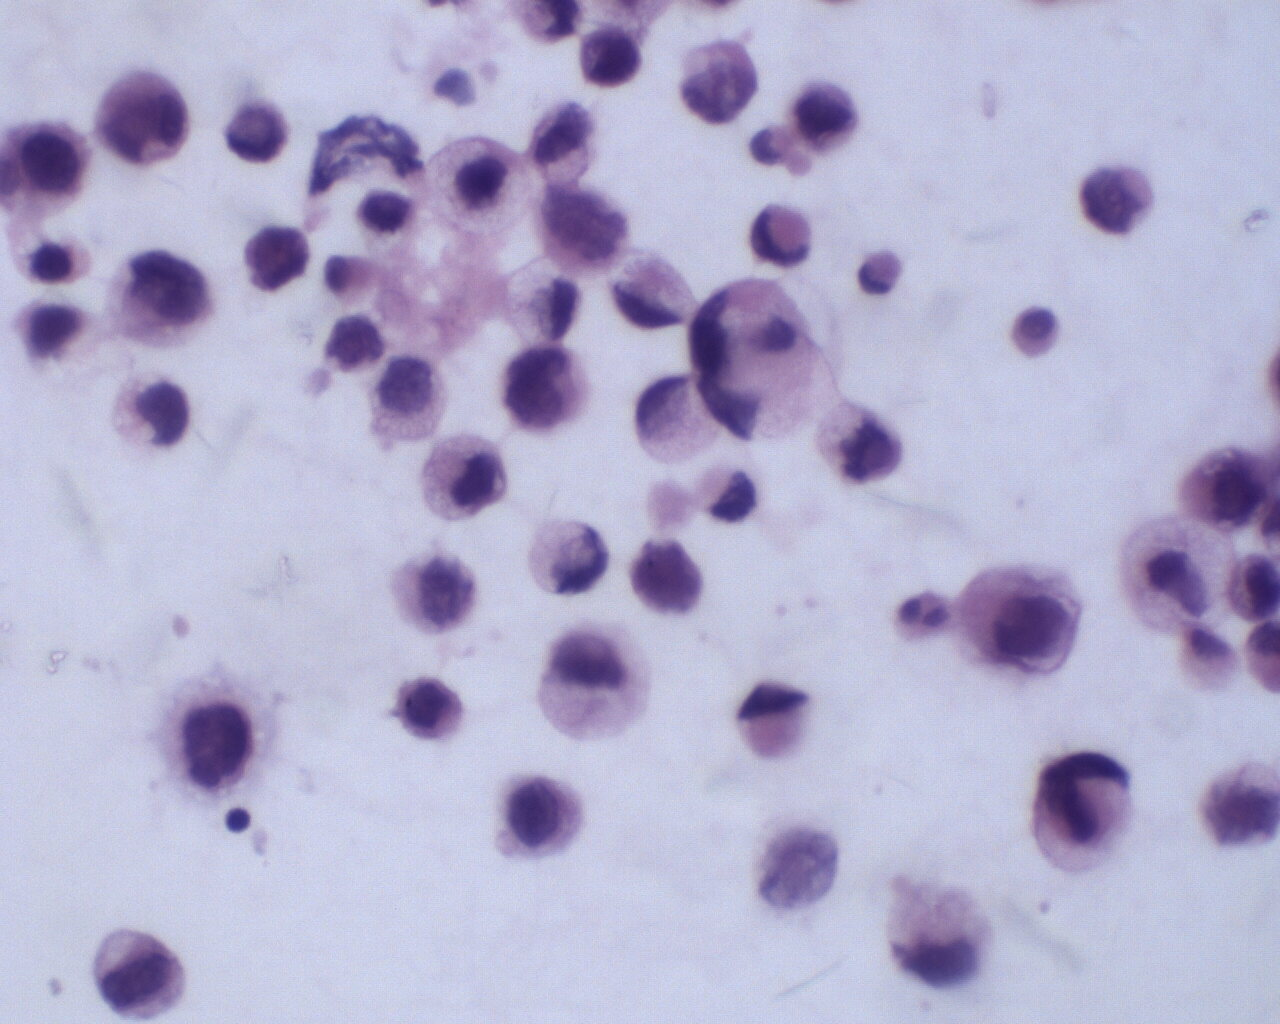ab: (952, 562, 1093, 682), (106, 245, 222, 354), (89, 927, 189, 1024), (416, 430, 513, 529), (491, 770, 588, 865), (5, 114, 96, 215), (501, 345, 595, 437), (787, 73, 858, 160), (245, 216, 318, 300), (572, 20, 645, 96), (395, 674, 461, 745)
lymph: (218, 801, 255, 841)
